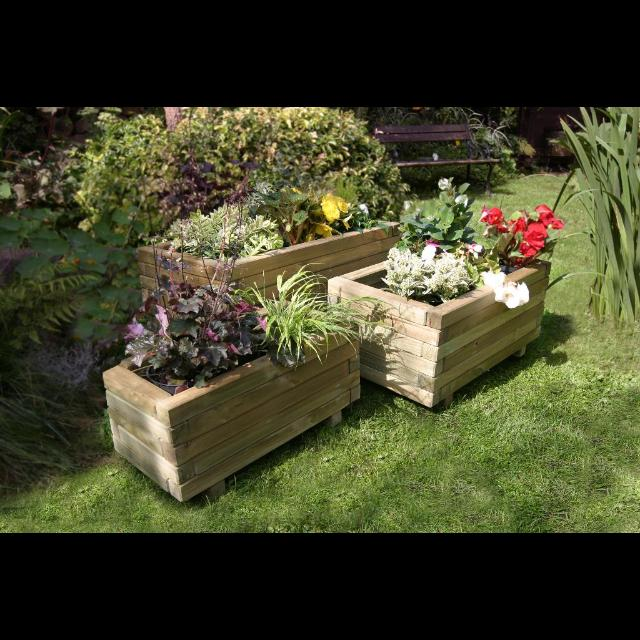Flower: (506, 203, 566, 267), (496, 283, 520, 313), (482, 269, 510, 287), (480, 206, 502, 226), (434, 176, 450, 192), (465, 246, 479, 258), (358, 204, 372, 214), (494, 225, 506, 232), (432, 151, 440, 161), (455, 140, 463, 146)
